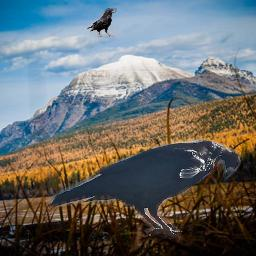Crow: (45, 138, 241, 239), (86, 8, 117, 37)
